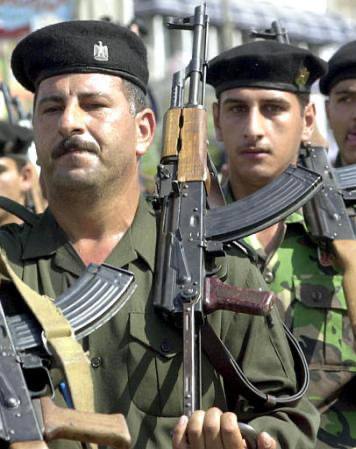Face: (35, 70, 140, 198), (213, 85, 312, 193), (328, 78, 356, 168)
